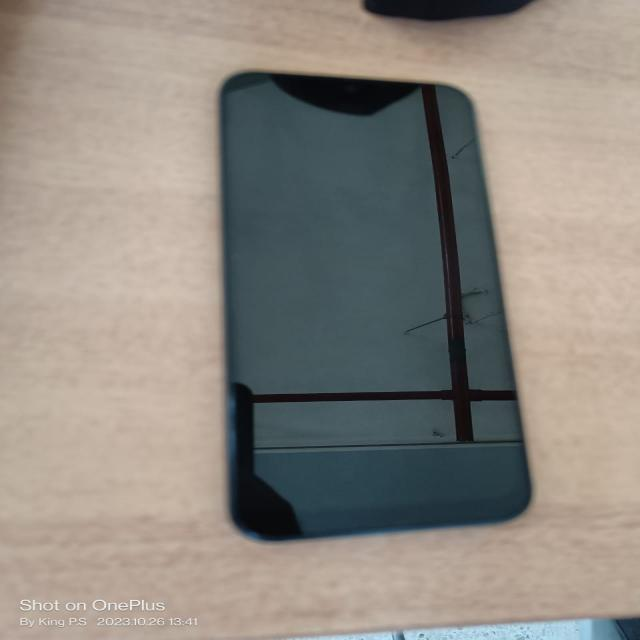mobile phone: (220, 72, 530, 540)
